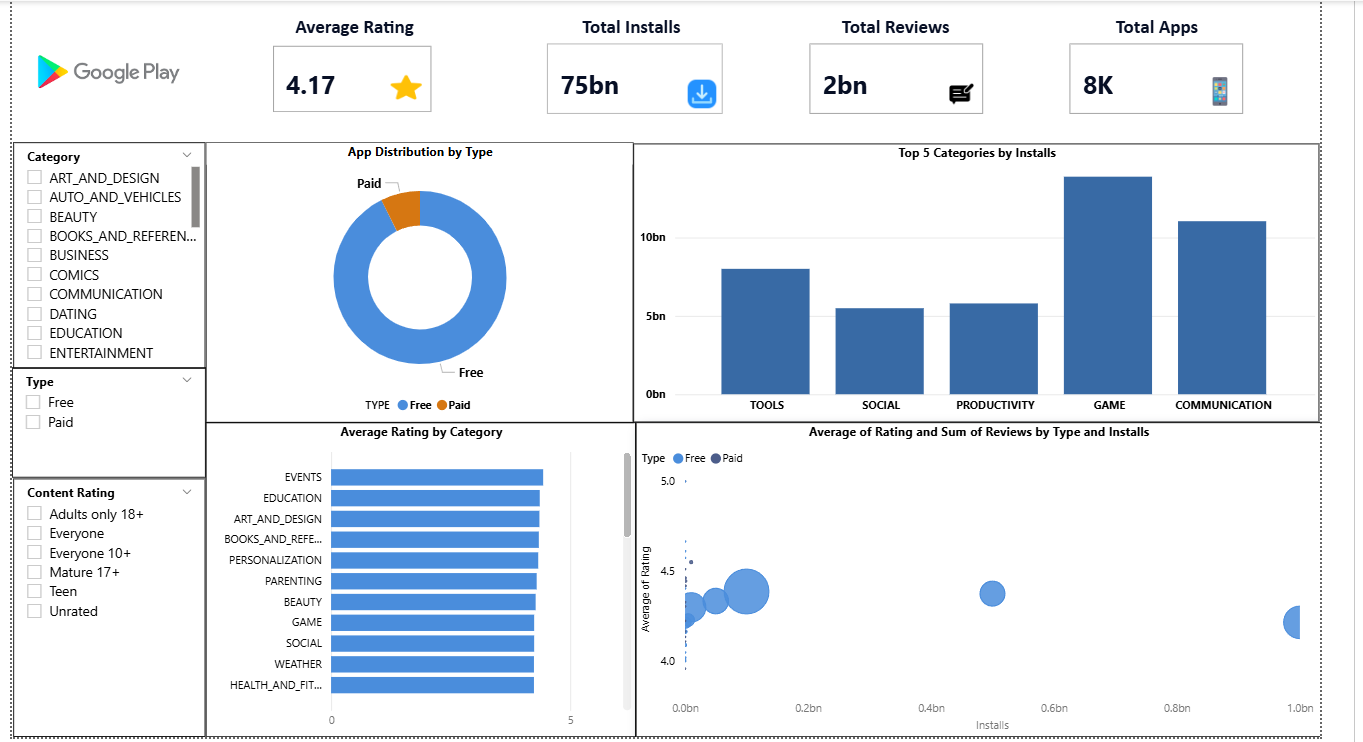

What the dashboard file says about the page in this screenshot:
{"tool":"powerbi","page":{"name":"Page 1","canvas":[1280,720],"ordinal":0},"visuals":[{"type":"cardVisual","fields":{"Data":["googleplaystore.Total Installs"]},"box":[518.5,36.7,182.2,79.5],"z":0},{"type":"cardVisual","fields":{"Data":["googleplaystore.Total Reviews"]},"box":[775.3,36.7,181,79.5],"z":1000},{"type":"cardVisual","fields":{"Data":["googleplaystore.Total Apps"]},"box":[1029.6,36.7,181,79.5],"z":2000},{"type":"cardVisual","fields":{"Data":["googleplaystore.Average Rating"]},"box":[243.3,31.8,179.8,89.3],"z":3000},{"type":"donutChart","title":"App Distribution by Type","fields":{"Category":["googleplaystore.Type"],"Y":["googleplaystore.Total Apps"]},"box":[189.2,138.4,418.1,274.1],"z":4000},{"type":"clusteredBarChart","fields":{"Category":["googleplaystore.Category"],"Y":["googleplaystore.Average Rating"]},"box":[189.5,412.1,420.7,308.2],"z":5000},{"type":"clusteredColumnChart","title":"Top 5 Categories by Installs","fields":{"Category":["googleplaystore.Category"],"Y":["googleplaystore.Total Installs"]},"box":[607.7,139.4,671.3,272.7],"z":6000},{"type":"scatterChart","fields":{"Series":["googleplaystore.Type"],"Size":["Sum(googleplaystore.Reviews)"],"Y":["Avg(googleplaystore.Rating)"],"X":["googleplaystore.Installs"]},"box":[610.2,412.1,670.1,308.2],"z":7000},{"type":"shape","box":[0,0,189.5,720.2],"z":8000},{"type":"slicer","fields":{"Values":["googleplaystore.Category"]},"box":[1.2,138.2,188.3,221.3],"z":9000},{"type":"slicer","fields":{"Values":["googleplaystore.Type"]},"box":[0,358.3,189.5,107.6],"z":10000},{"type":"slicer","fields":{"Values":["googleplaystore.Content Rating"]},"box":[1.2,467.1,188.3,253.1],"z":11000},{"type":"textbox","box":[244,27.4,178.2,39.8],"z":12000},{"type":"textbox","box":[518.1,27.4,178.2,39.8],"z":13000},{"type":"textbox","box":[775.3,8.6,178.5,36.7],"z":14000},{"type":"textbox","box":[247,8.6,176.1,34.2],"z":15000},{"type":"textbox","box":[514.8,8.6,182.2,36.7],"z":16000},{"type":"textbox","box":[1029.6,8.6,181,36.7],"z":17000},{"type":"image","box":[0,0,189.5,138.2],"z":18000},{"type":"image","box":[365.6,67.3,40.4,34.2],"z":19000},{"type":"image","box":[653,72.1,44,37.9],"z":20000},{"type":"image","box":[1162.9,67.3,37.9,42.8],"z":21000},{"type":"image","box":[903.7,72.1,50.1,37.9],"z":22000}]}

Visuals, with their boxes in screenshot pixels (x1, y1, x2, y2):
cardVisual - googleplaystore.Total Installs: [537,37,723,118]
cardVisual - googleplaystore.Total Reviews: [798,37,982,118]
cardVisual - googleplaystore.Total Apps: [1057,37,1241,118]
cardVisual - googleplaystore.Average Rating: [258,32,441,123]
"App Distribution by Type" donutChart: [203,141,628,419]
clusteredBarChart - googleplaystore.Category x googleplaystore.Average Rating: [203,419,631,732]
"Top 5 Categories by Installs" clusteredColumnChart: [628,142,1310,419]
scatterChart - googleplaystore.Type x Sum(googleplaystore.Reviews): [631,419,1312,732]
shape: [11,0,203,732]
slicer - googleplaystore.Category: [12,140,203,365]
slicer - googleplaystore.Type: [11,364,203,473]
slicer - googleplaystore.Content Rating: [12,475,203,732]
textbox: [259,28,440,68]
textbox: [537,28,718,68]
textbox: [798,9,980,46]
textbox: [262,9,441,43]
textbox: [534,9,719,46]
textbox: [1057,9,1241,46]
image: [11,0,203,140]
image: [382,68,423,103]
image: [674,73,719,112]
image: [1192,68,1231,112]
image: [929,73,980,112]
